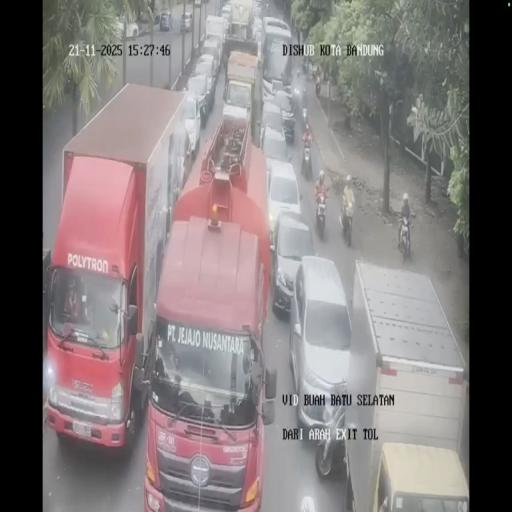car: (271, 208, 315, 316), (260, 122, 288, 166), (272, 87, 296, 133), (200, 36, 223, 80), (262, 16, 292, 47), (251, 16, 263, 46), (220, 4, 232, 29), (180, 11, 192, 31), (160, 12, 172, 31), (251, 0, 262, 18)
motorcycle: (397, 214, 413, 263), (315, 190, 328, 240), (301, 141, 313, 178), (314, 73, 321, 97), (302, 60, 308, 74)
truck: (45, 82, 194, 454), (338, 263, 467, 512)
